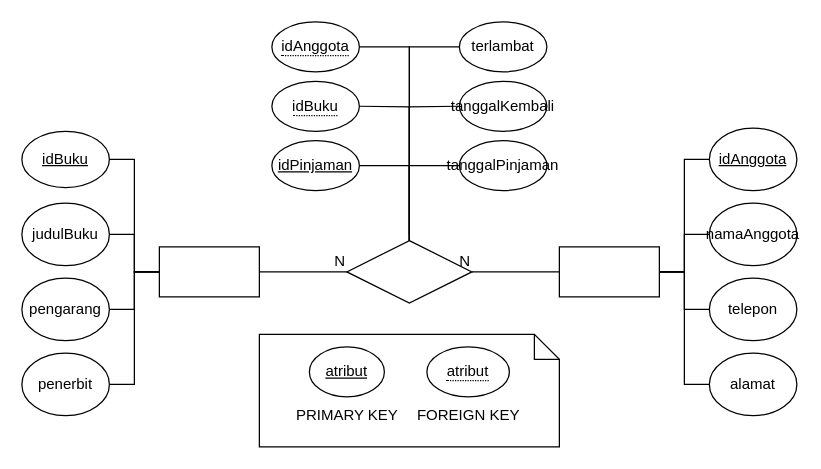
The diagram is 821 pixels wide and 469 high, and some of its shapes have lost their labels. The shapes that lost their labels are listed below. From the top down, each one's centre as x and y in pixels, then its label:
At point (208, 271): "buku".
At point (409, 271): "meminjam".
At point (608, 271): "anggota".
